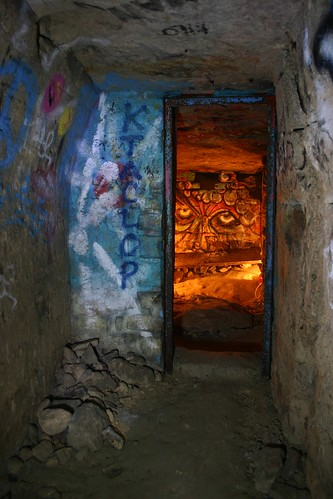door: (166, 98, 276, 398)
grass: (81, 94, 160, 296), (176, 173, 265, 257)
